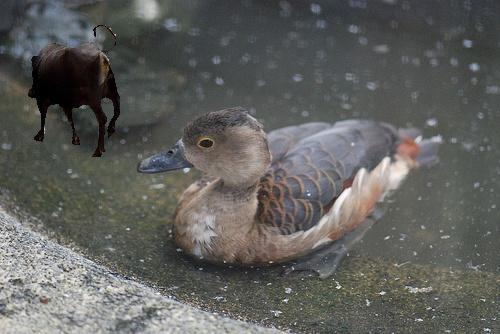tampered: (29, 26, 120, 157)
